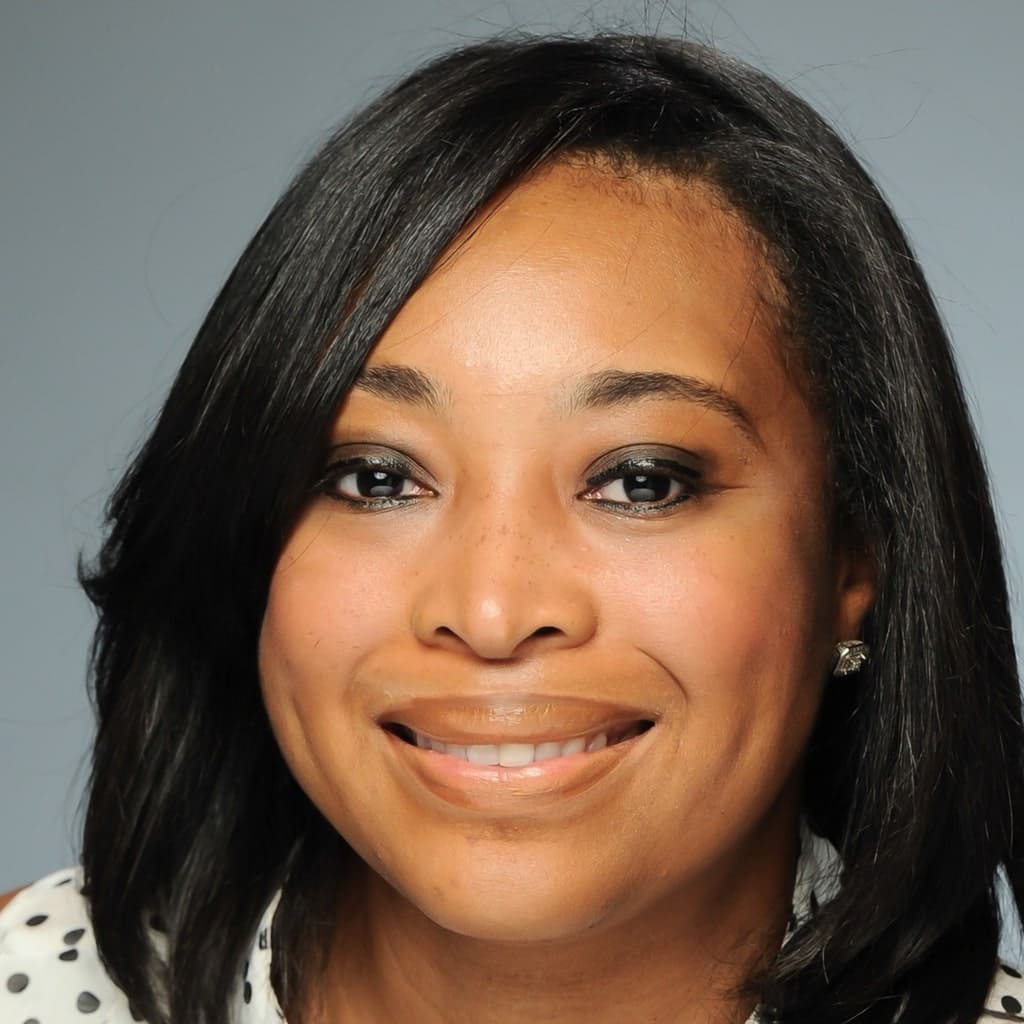without_mask: (289, 303, 754, 846)
